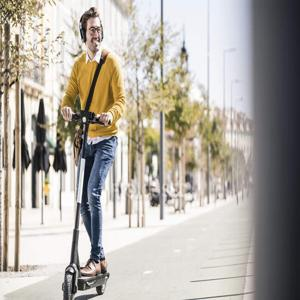human on a scooter: (59, 6, 128, 298)
